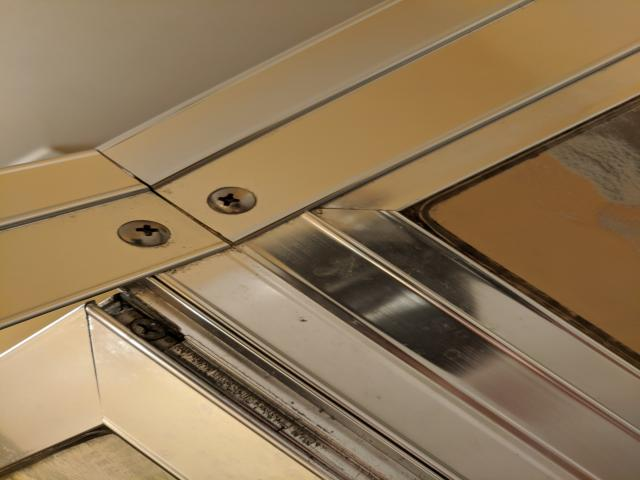CRS: (206, 187, 259, 215), (117, 220, 173, 244), (125, 312, 168, 341)
